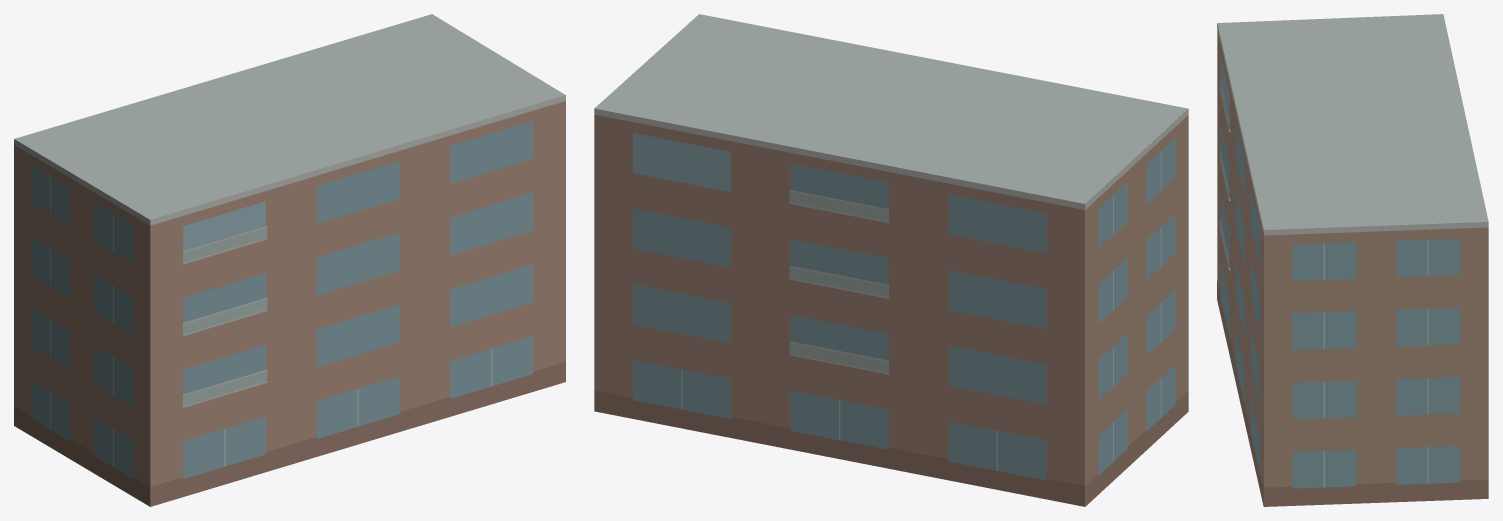
File: survey-upis-32673128.glb
3 views of the same model, side by side, from view 1: azimuth 30°, elevation 25°; view 2: azimuth 150°, elevation 25°; view 3: azimuth 270°, elevation 25° (orthographic). The views are drawn at different scales.
Parts seen in each view (by area): view 1: survey-upis-32673128.tmp; view 2: survey-upis-32673128.tmp; view 3: survey-upis-32673128.tmp.
Part boxes in pixels (x1,y1,x2,y2): survey-upis-32673128.tmp: (14,14,565,506); survey-upis-32673128.tmp: (594,14,1188,506); survey-upis-32673128.tmp: (1217,14,1488,506).
Bounding box in the file's own units: 20.43 × 12.2 × 10.85.
